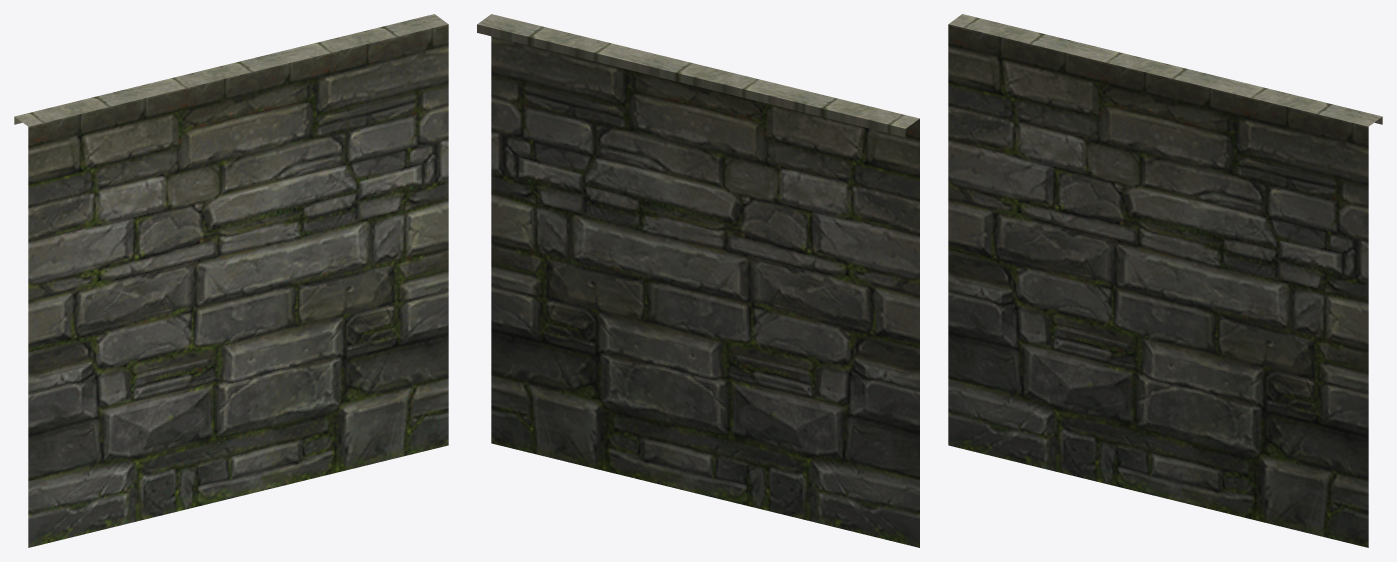
The model's file is ss_diji_1.FBX.
3 views of the same model, side by side, from view 1: azimuth 30°, elevation 25°; view 2: azimuth 150°, elevation 25°; view 3: azimuth 330°, elevation 25° (orthographic).
Parts seen in each view (by area): view 1: ss_diji_1; view 2: ss_diji_1; view 3: ss_diji_1.
Boxes of the visible parts, box(x1,y1,x2,y2) form: ss_diji_1: box(14, 14, 448, 547); ss_diji_1: box(477, 14, 919, 547); ss_diji_1: box(948, 14, 1382, 547).
Size of the model in its own units: 606 by 580 by 34.9.
